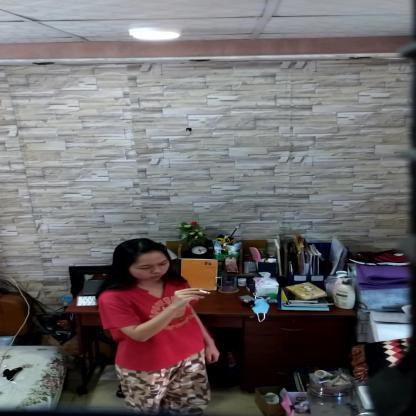cigarette: (198, 289, 210, 294)
person: (94, 238, 222, 415)
